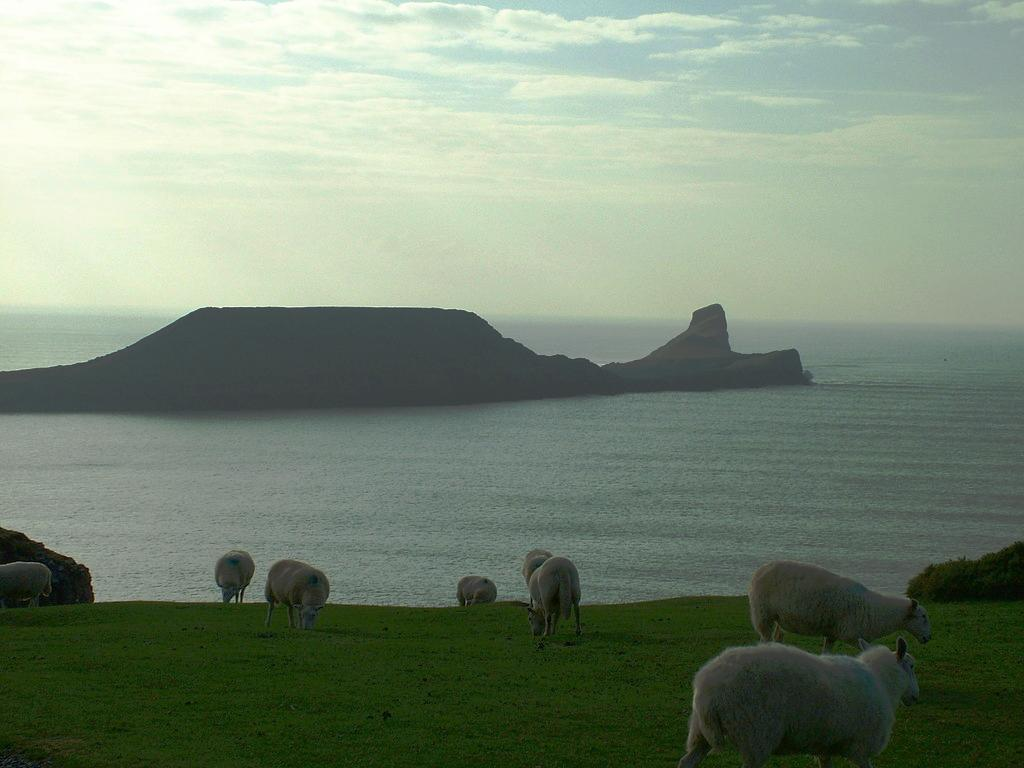Sheep: (678, 638, 922, 768), (747, 556, 933, 653), (264, 554, 334, 639), (526, 548, 583, 640), (214, 546, 257, 608), (455, 573, 506, 613)
